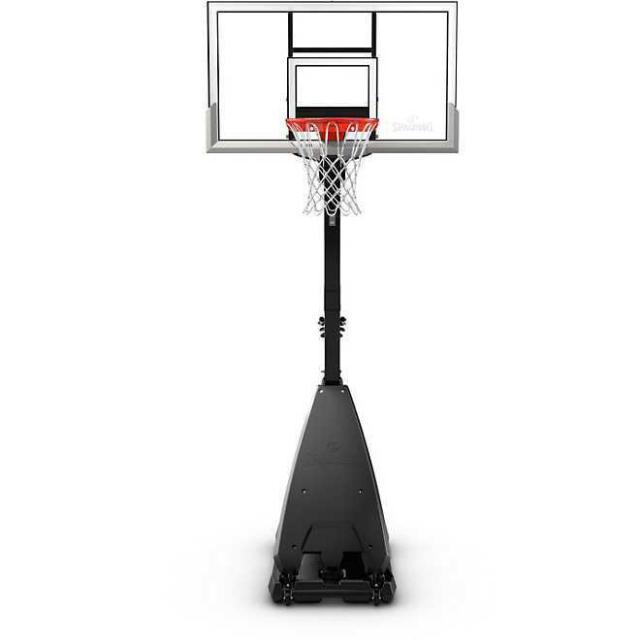hoop: (287, 118, 380, 217)
